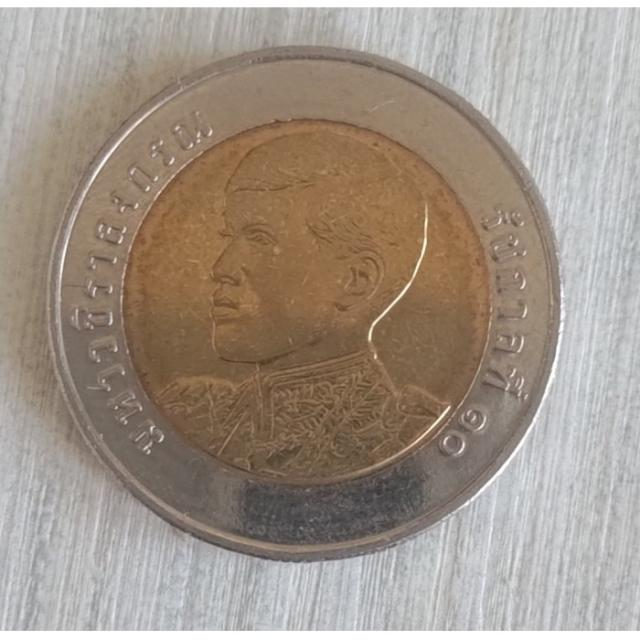10 Bath: (55, 48, 566, 558)
